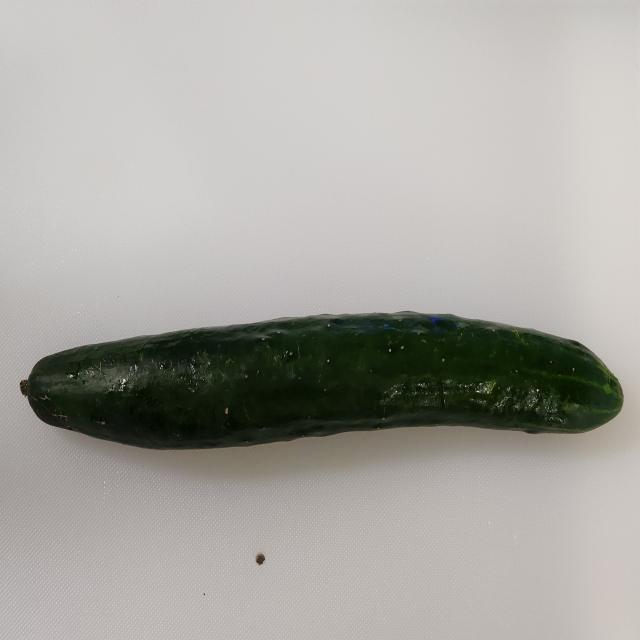cucumber: (20, 310, 624, 450)
